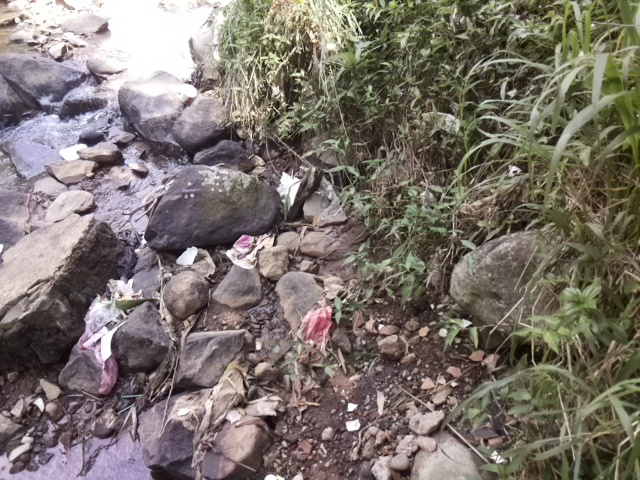Sampah_Plastik: (79, 276, 131, 399), (297, 305, 337, 364)
Sampah_Styrofoam: (275, 170, 300, 212), (57, 141, 88, 162), (174, 245, 198, 268)
